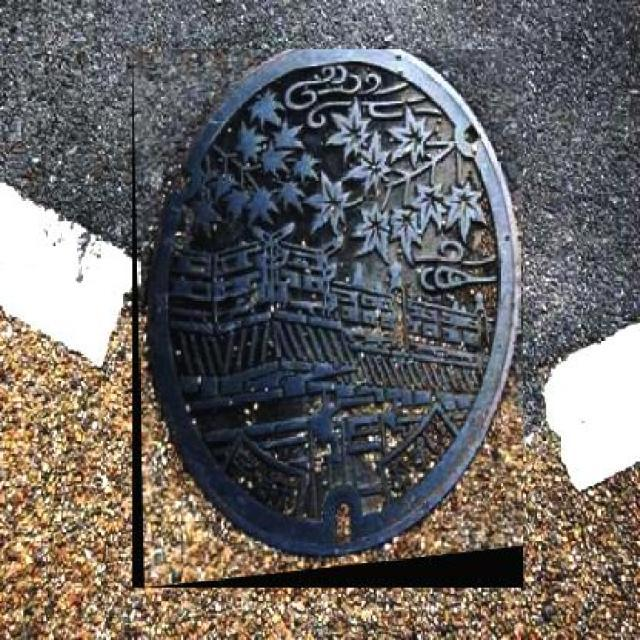Manhole: (132, 49, 523, 588)
